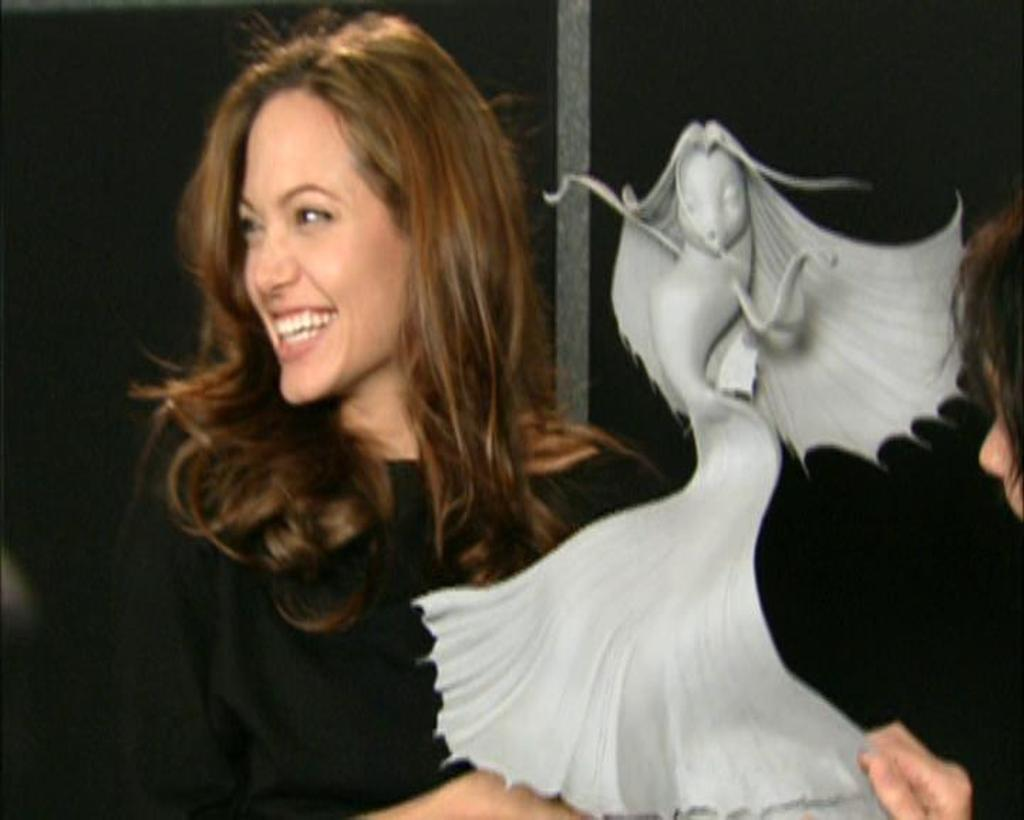face: (244, 90, 420, 398)
